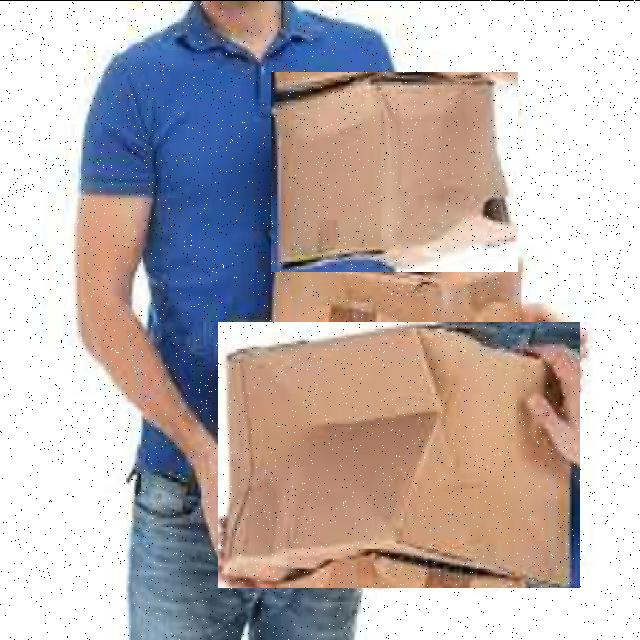defect: (218, 322, 580, 588), (271, 71, 518, 271)
